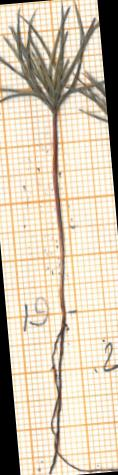flower: (0, 0, 107, 122)
root: (36, 311, 92, 475)
stem: (41, 118, 80, 310)
